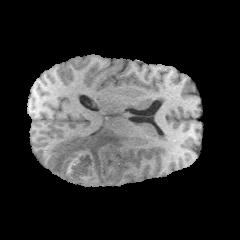glioma: (50, 128, 128, 187)
